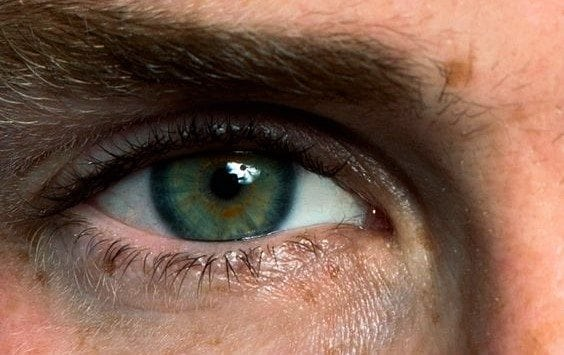iris: (146, 131, 296, 242)
pupil: (207, 165, 245, 201)
